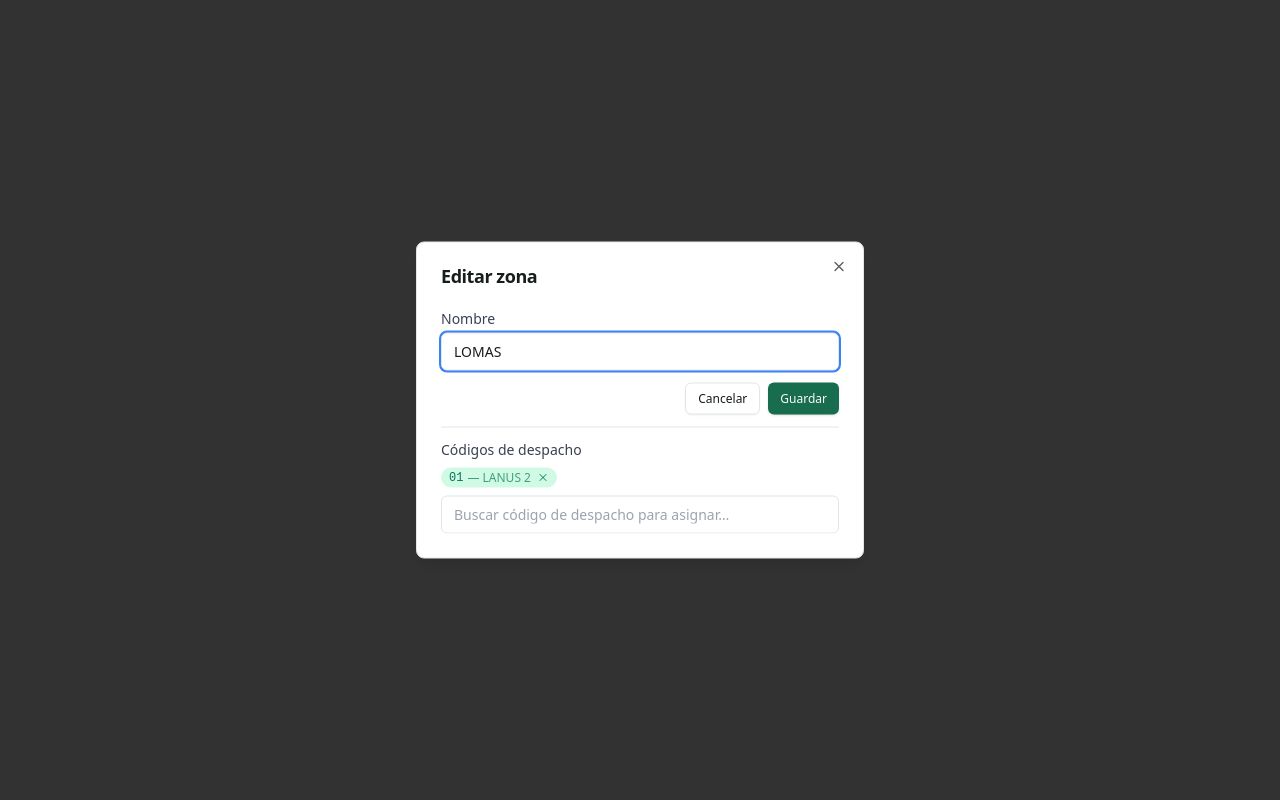
Test case: ZonaModal — edición › busca códigos, oculta los ya asignados, y asigna al click
Later steps or results of the test are not shown.
Step 1. Type "lan" into the field with placeholder "Buscar código de despacho para asignar…" → (640, 514), box top-left (441, 496), bottom-right (839, 534)
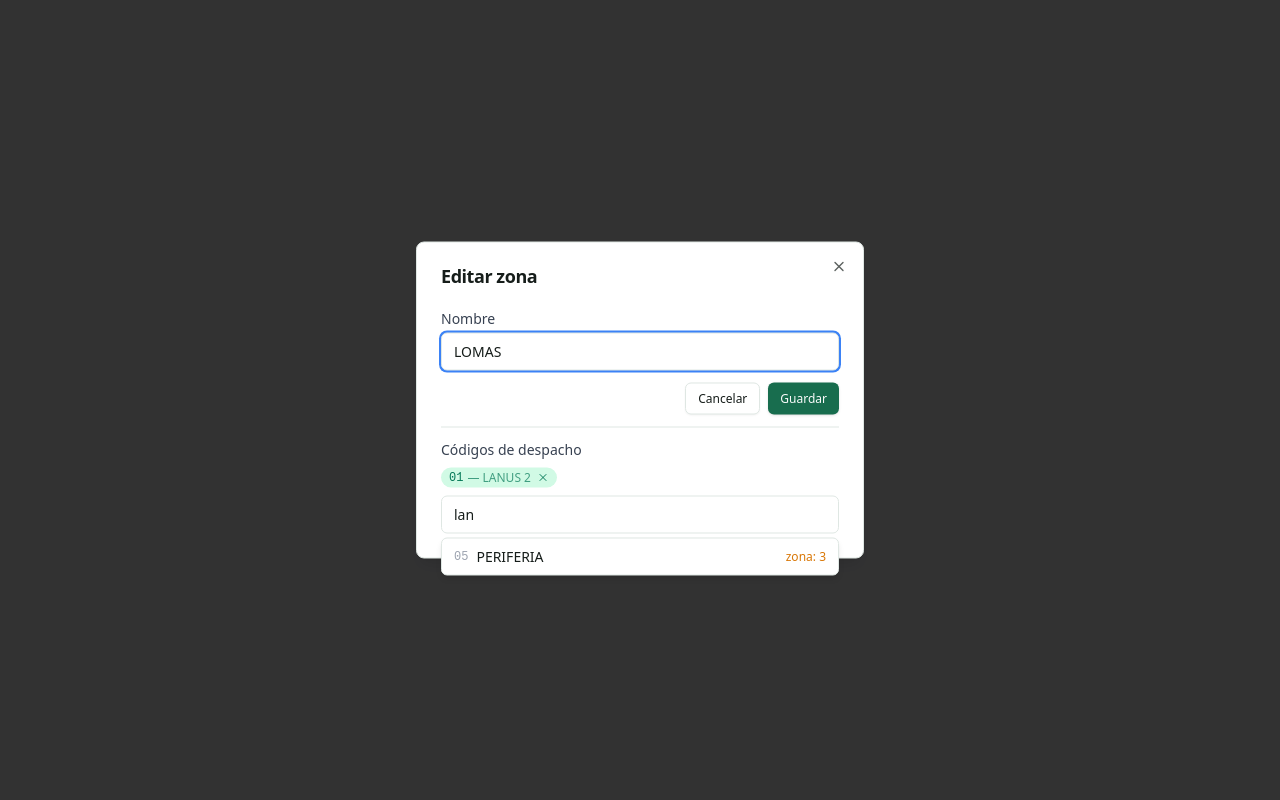
Expected: the text "zona: 3" is shown, top-left (786, 548), bottom-right (826, 564)
